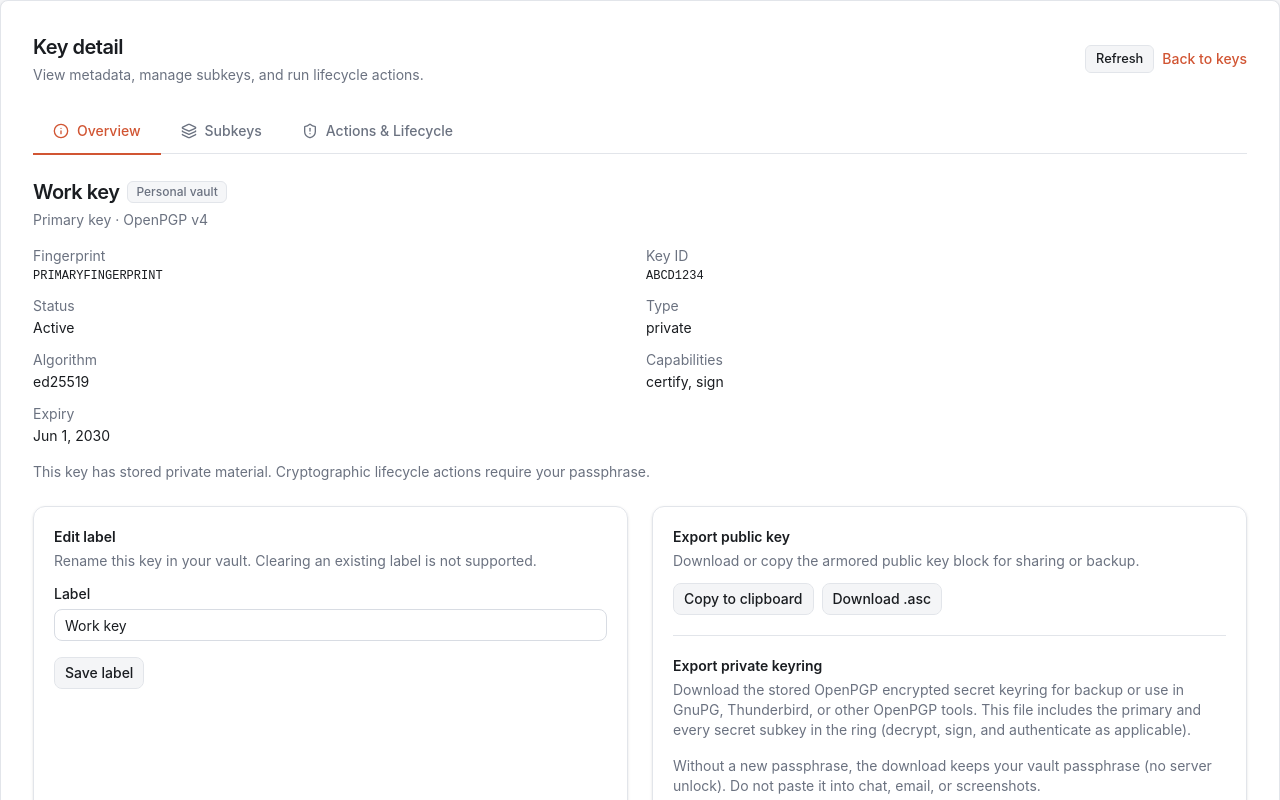
Test case: KeyDetailPage › moves focus and activates subkeys tab with ArrowRight after clicking overview tab
Check: the heading "Work key" is shown, box [33,178,119,206]
Click the tab "Overview" at coordinates (97, 132), box [33,109,160,155]
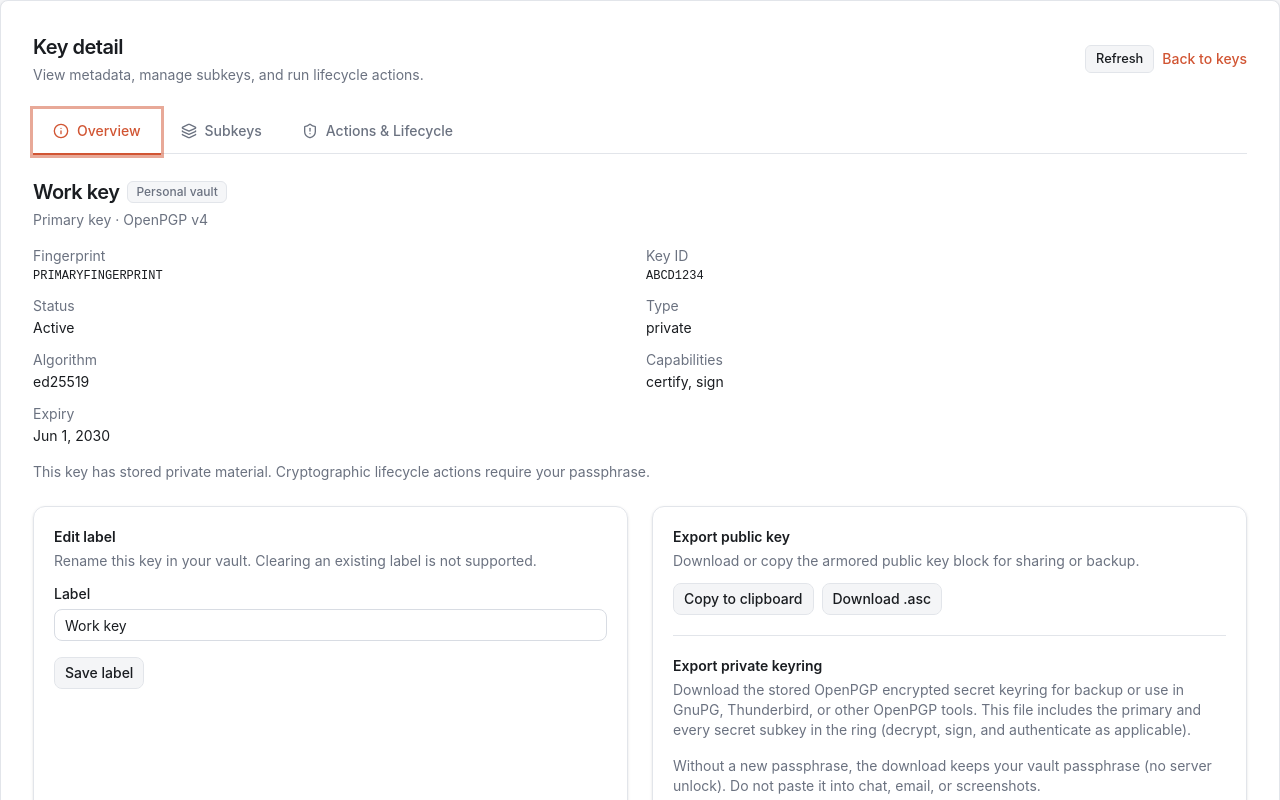
Press Arrowright
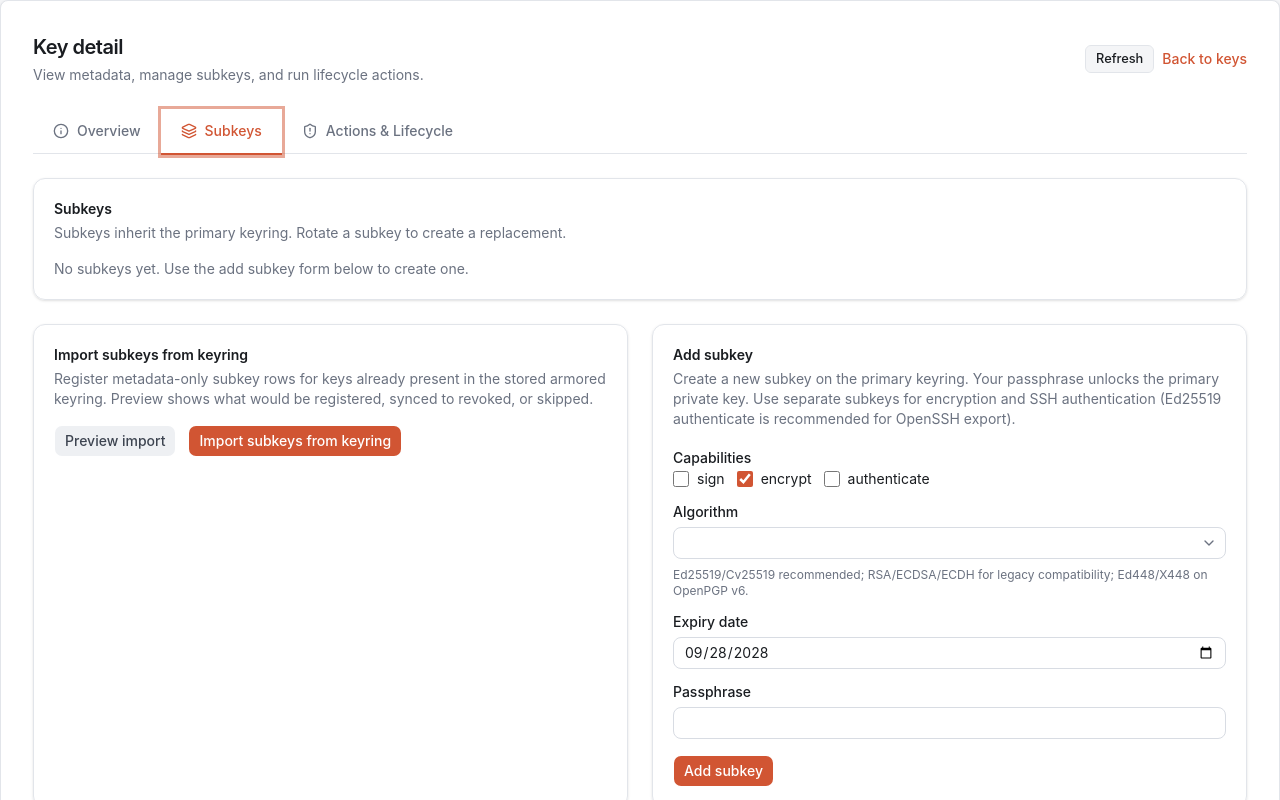
Check: the element "Subkeys" is shown, box [54,200,566,277]
